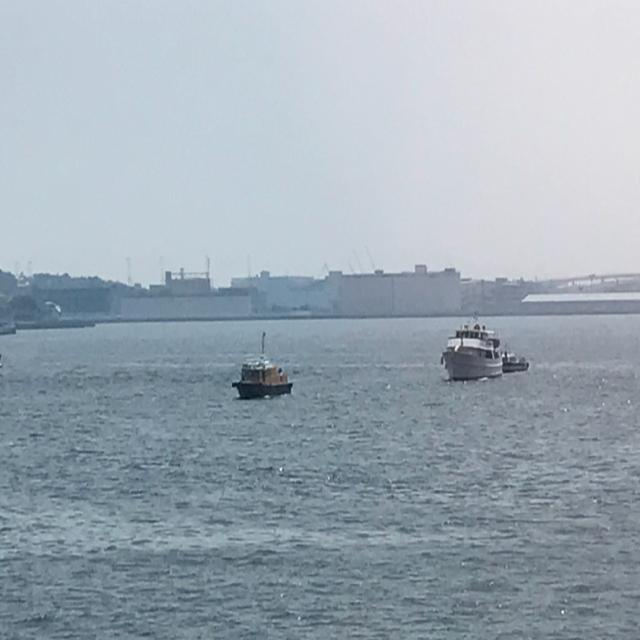houseboat: (231, 327, 293, 405), (440, 308, 507, 380)
